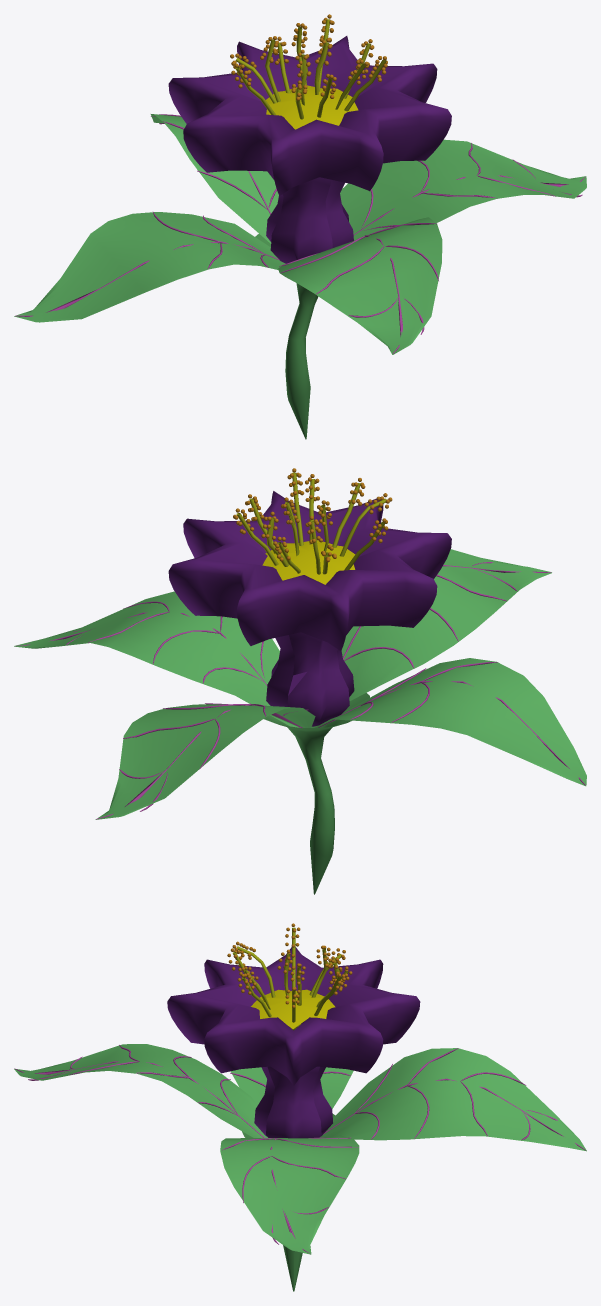
The model's file is Flower_02.fbx.
The picture shows the model from 3 angles, top to bottom: view 1: azimuth 30°, elevation 25°; view 2: azimuth 150°, elevation 25°; view 3: azimuth 270°, elevation 25°; orthographic projection. The views are drawn at different scales.
Visible parts, largest first — view 1: flower, leaf2Top, leaf1Top, leaf4Top, flower1, leaf3Top, nurbsToPoly39, pCylinder2; view 2: flower, leaf2Top, leaf4Top, leaf1Top, leaf3Top, flower1, nurbsToPoly39, pCylinder2, leaf3Bottom; view 3: flower, leaf3Top, leaf4Top, leaf1Top, flower1, pCylinder2, leaf2Top, nurbsToPoly39.
Boxes of the visible parts, <box> form: flower: <box>168,36,451,195</box>; leaf2Top: <box>14,212,285,322</box>; leaf1Top: <box>278,217,442,354</box>; leaf4Top: <box>340,139,586,240</box>; flower1: <box>266,177,353,263</box>; leaf3Top: <box>152,114,278,243</box>; nurbsToPoly39: <box>255,234,318,439</box>; pCylinder2: <box>266,85,358,129</box>; flower: <box>168,491,451,707</box>; leaf2Top: <box>315,658,586,785</box>; leaf4Top: <box>14,591,298,727</box>; leaf1Top: <box>341,549,551,700</box>; leaf3Top: <box>96,704,314,819</box>; flower1: <box>196,615,412,726</box>; nurbsToPoly39: <box>264,693,369,894</box>; pCylinder2: <box>262,540,355,584</box>; leaf3Bottom: <box>95,708,315,819</box>; flower: <box>167,947,420,1125</box>; leaf3Top: <box>319,1048,586,1150</box>; leaf4Top: <box>220,1135,359,1254</box>; leaf1Top: <box>14,1044,267,1137</box>; flower1: <box>191,1042,332,1138</box>; pCylinder2: <box>251,989,335,1029</box>; leaf2Top: <box>231,1067,353,1108</box>; nurbsToPoly39: <box>242,1114,335,1291</box>.
Size of the model in its own units: 1012 by 667 by 1018.
